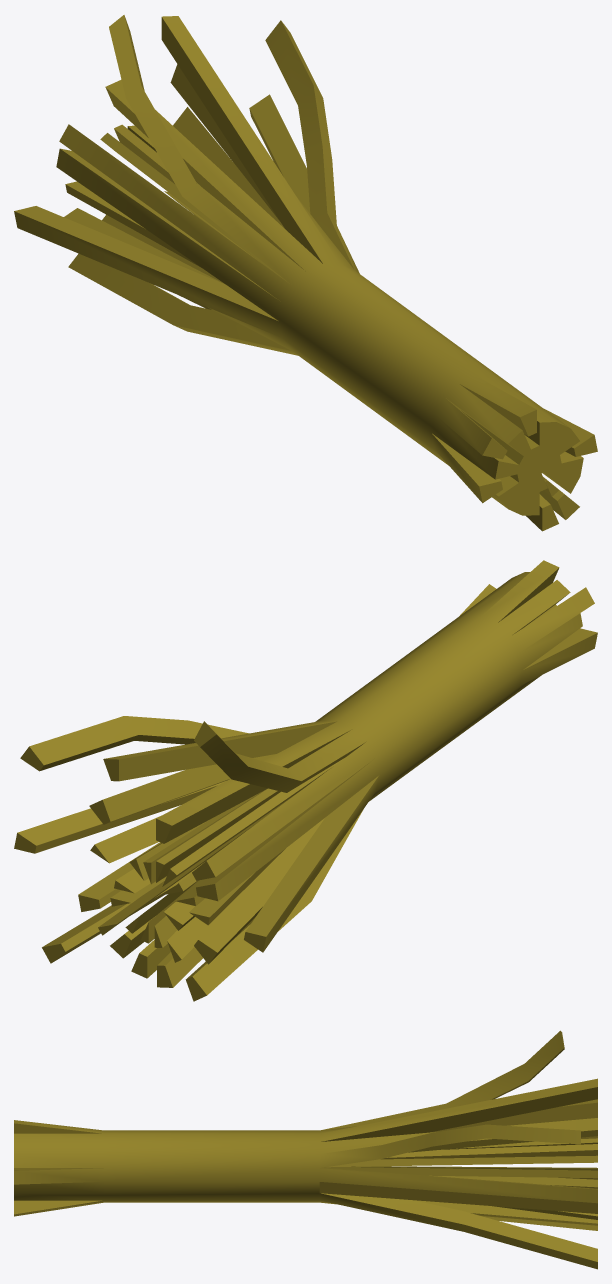
The model's file is cheese_string.obj.
3 views of the same model, one above another, from view 1: azimuth 30°, elevation 25°; view 2: azimuth 150°, elevation 25°; view 3: azimuth 270°, elevation 25° (orthographic). The views are drawn at different scales.
Visible parts, largest first — view 1: 0; view 2: 0; view 3: 0.
Boxes of the visible parts, <box> form: 0: <box>14,15,597,531</box>; 0: <box>14,560,597,1001</box>; 0: <box>14,1030,597,1269</box>.
Size of the model in its own units: 0.1215 by 0.1187 by 0.3233.
